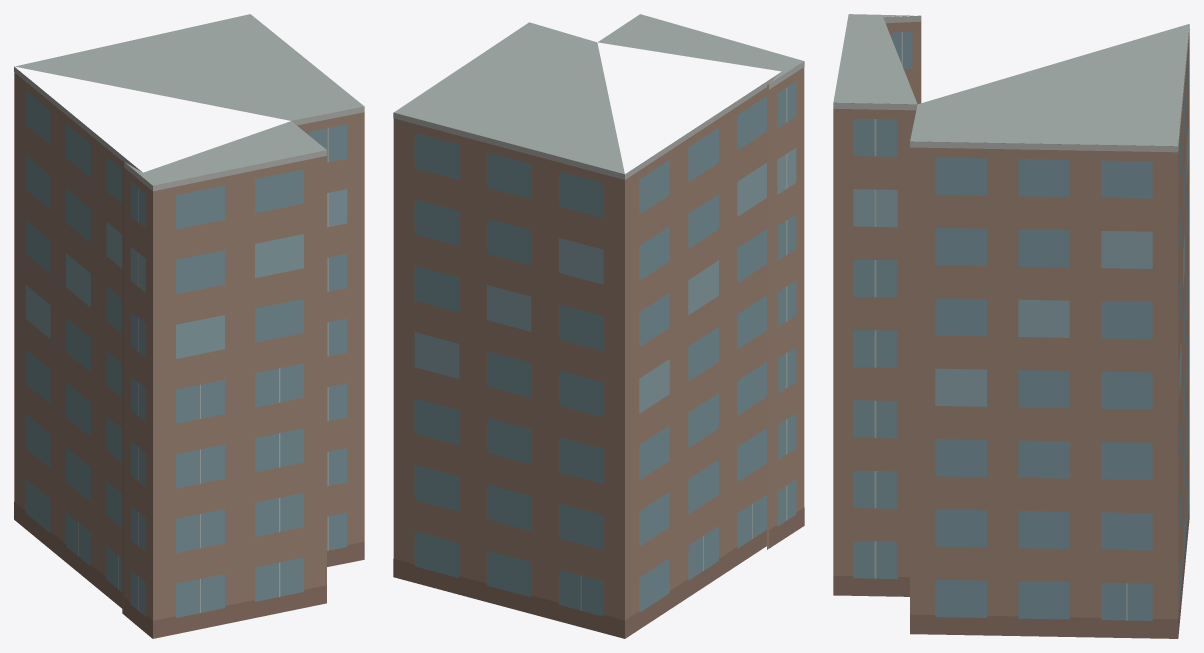
The model's file is survey-upis-33013489.glb.
3 renders of one model, left to right at view 1: azimuth 30°, elevation 25°; view 2: azimuth 150°, elevation 25°; view 3: azimuth 270°, elevation 25°, orthographic. The views are drawn at different scales.
Visible parts, largest first — view 1: survey-upis-33013489.tmp; view 2: survey-upis-33013489.tmp; view 3: survey-upis-33013489.tmp.
Boxes of the visible parts, left/top/right/bottom form: survey-upis-33013489.tmp: left=14, top=14, right=364, bottom=638; survey-upis-33013489.tmp: left=393, top=14, right=804, bottom=638; survey-upis-33013489.tmp: left=833, top=14, right=1189, bottom=638.
Size of the model in its own units: 11.38 by 19.75 by 12.96.
